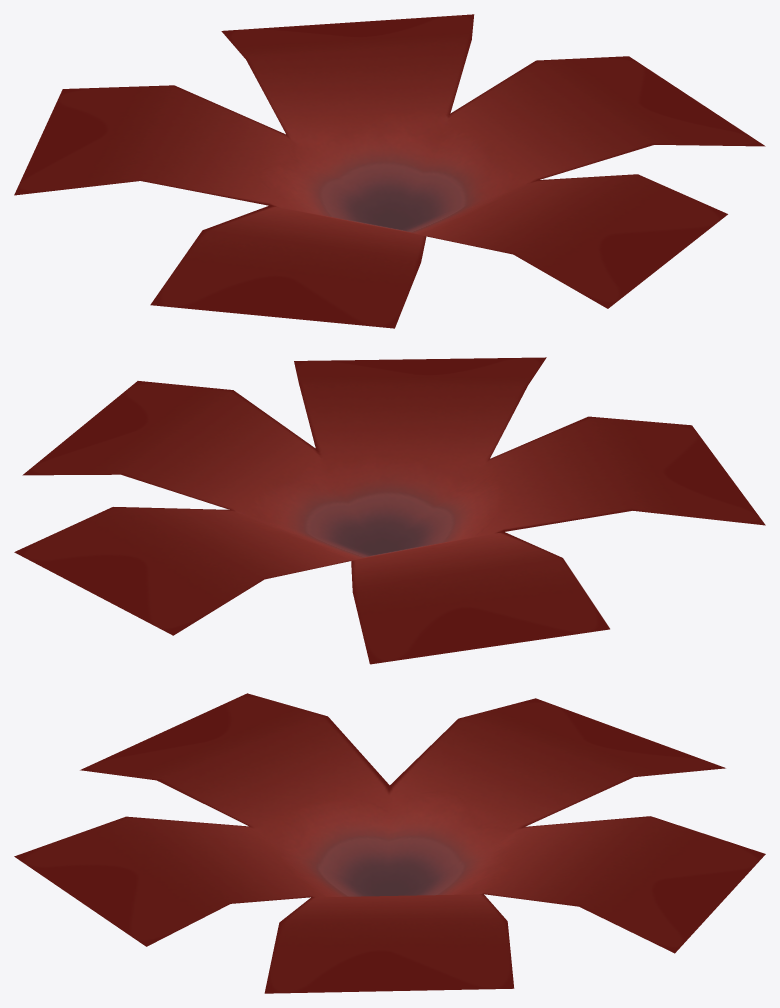
File: SM_Red_Flower.fbx
3 renders of one model, top to bottom at view 1: azimuth 30°, elevation 25°; view 2: azimuth 150°, elevation 25°; view 3: azimuth 270°, elevation 25°, orthographic.
Parts seen in each view (by area): view 1: SM_Red_Flower_LOD0; view 2: SM_Red_Flower_LOD0; view 3: SM_Red_Flower_LOD0.
Part boxes in pixels (left/top/right/bottom): SM_Red_Flower_LOD0: left=14, top=14, right=765, bottom=328; SM_Red_Flower_LOD0: left=14, top=357, right=765, bottom=664; SM_Red_Flower_LOD0: left=14, top=693, right=765, bottom=993.
Bounding box in the file's own units: 32.07 × 33.94 × 3.72.
Materials: 1 (1 with a texture image).
